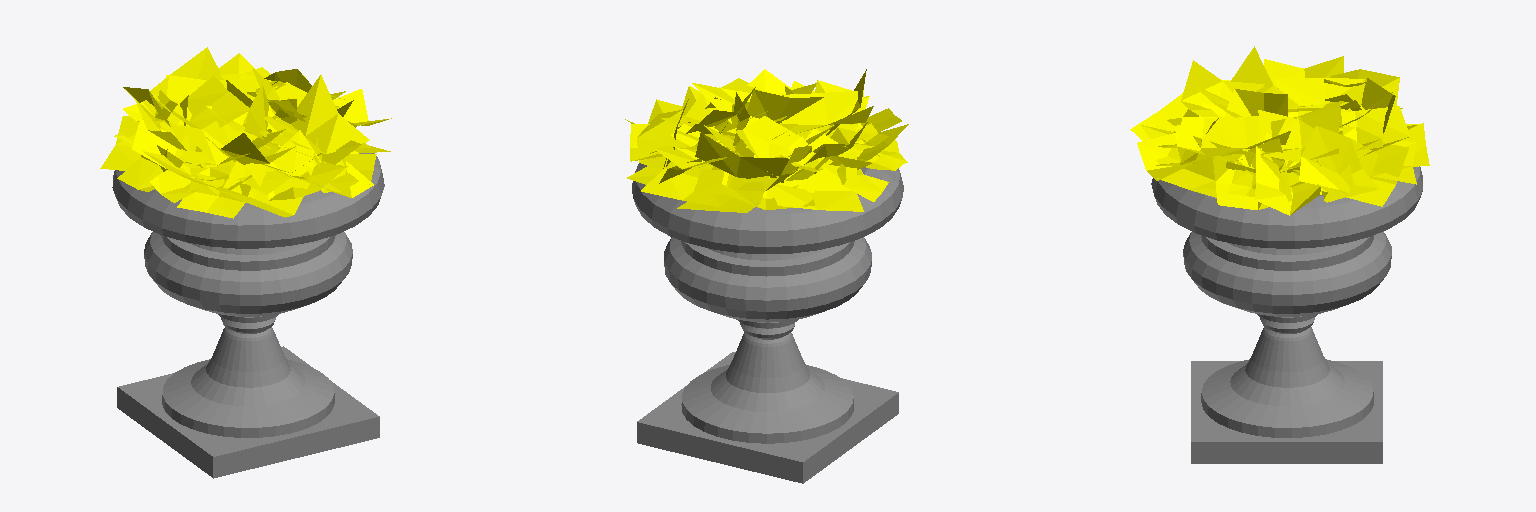
File: vase.obj
3 views of the same model, side by side, from view 1: azimuth 30°, elevation 25°; view 2: azimuth 150°, elevation 25°; view 3: azimuth 270°, elevation 25° (orthographic).
Visible parts, largest first — view 1: vase_round, sponza_372; view 2: vase_round, sponza_372; view 3: vase_round, sponza_372.
Boxes of the visible parts, x1=… form: vase_round: x1=112, y1=153, x2=384, y2=478; sponza_372: x1=100, y1=47, x2=391, y2=218; vase_round: x1=632, y1=163, x2=903, y2=483; sponza_372: x1=625, y1=69, x2=908, y2=212; vase_round: x1=1151, y1=166, x2=1422, y2=463; sponza_372: x1=1130, y1=46, x2=1429, y2=215.
Bounding box in the file's own units: 9.1 × 11.65 × 9.37.